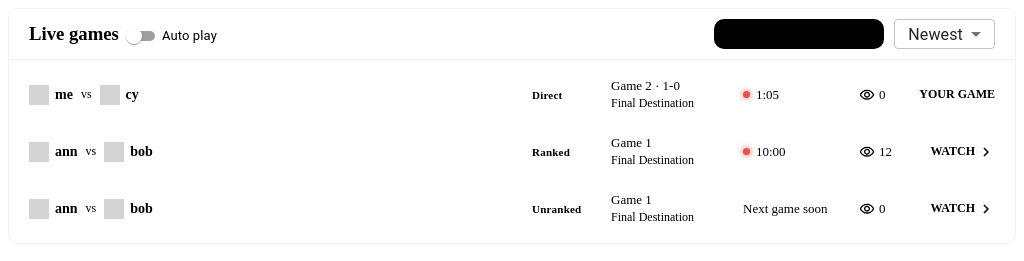
Test case: SpectateView › closes a row's tooltip when the list scrolls
Hover over the button "ann vs bob Ranked Game 1 Final Destination 10:00 12 Watch" at (551, 152), box [17,125,1007,178]
Wait 1000 ms
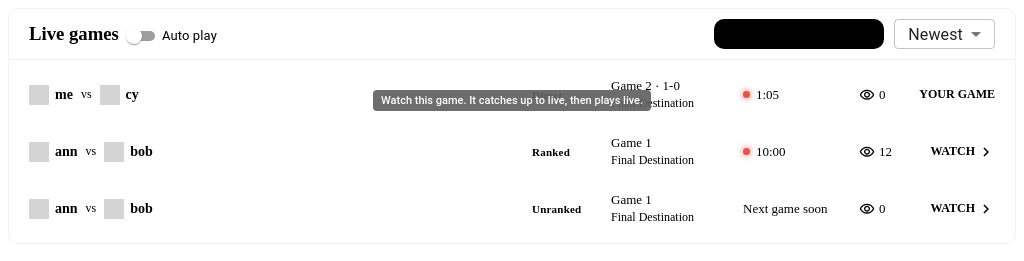
Check: the tooltip reads "Watch this game. It catches up to live, then plays live.", box [381,94,643,107]
